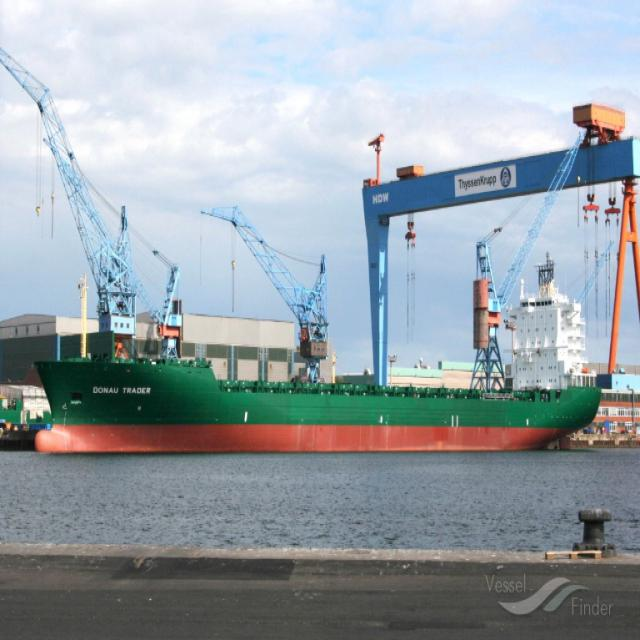Container Ship: (24, 282, 596, 448)
